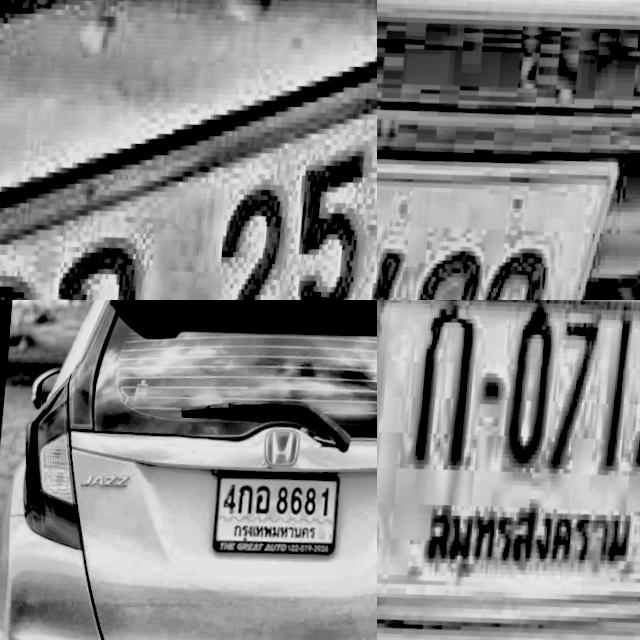license-plate: (0, 0, 377, 300), (377, 300, 640, 633), (377, 72, 631, 300), (210, 464, 343, 565)
